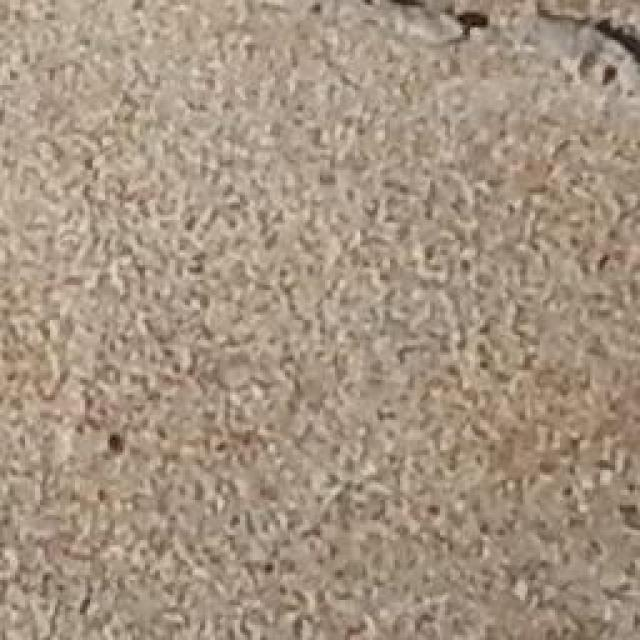concrete-crack: (530, 11, 640, 98), (450, 10, 492, 35)
